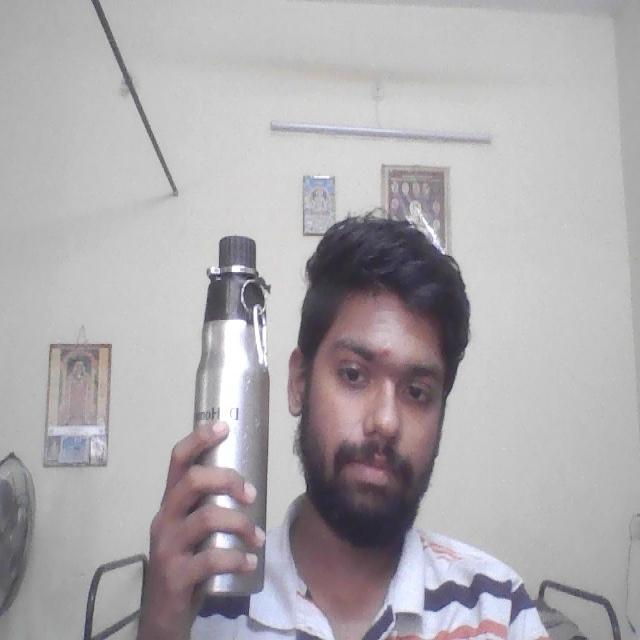Drinking: (175, 228, 276, 606)
